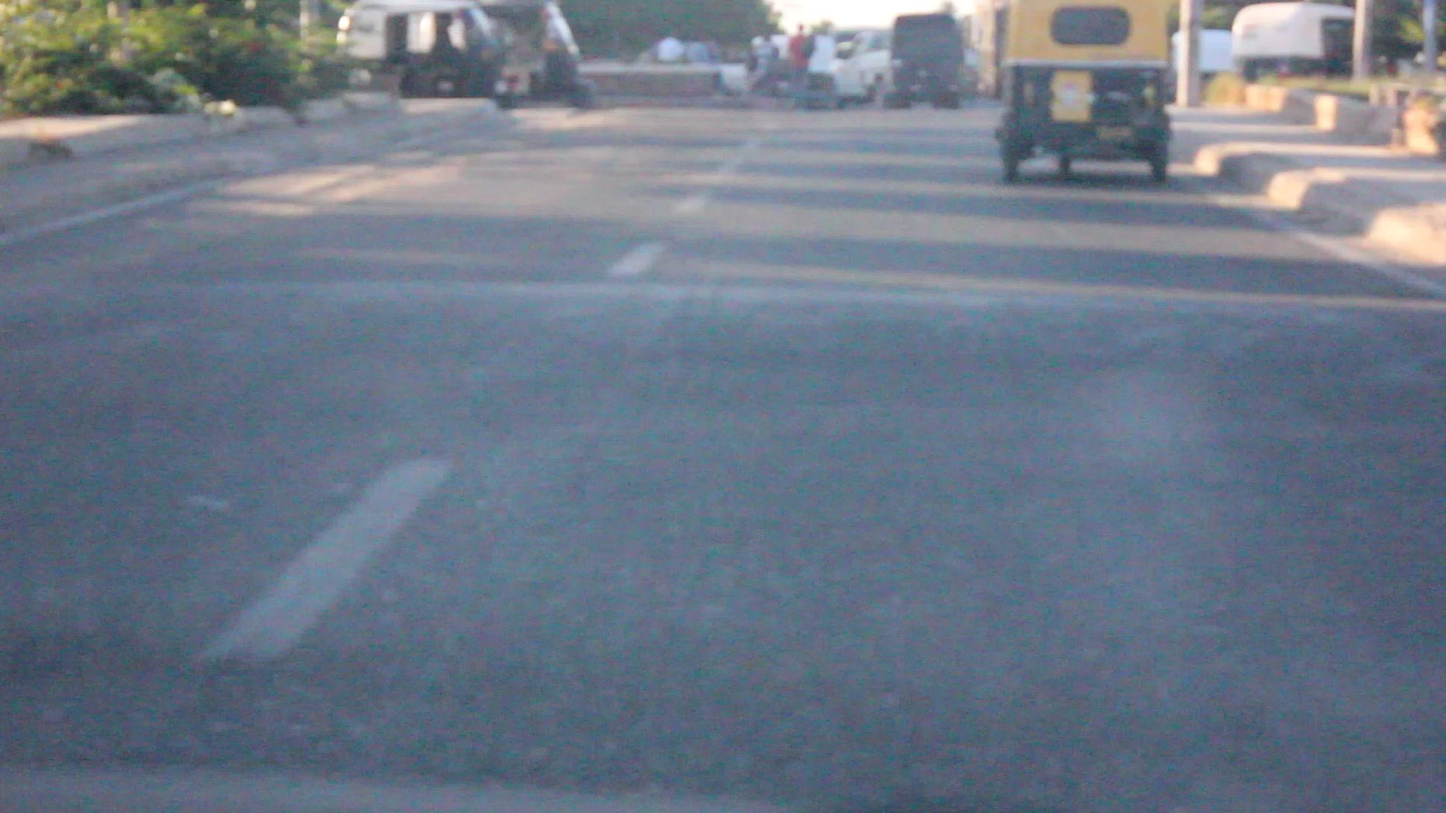Bump: (162, 277, 1446, 416)
